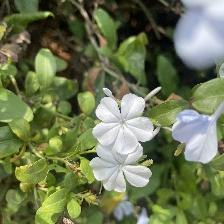chitrak: (94, 92, 160, 150), (92, 143, 147, 196), (175, 108, 220, 165)
